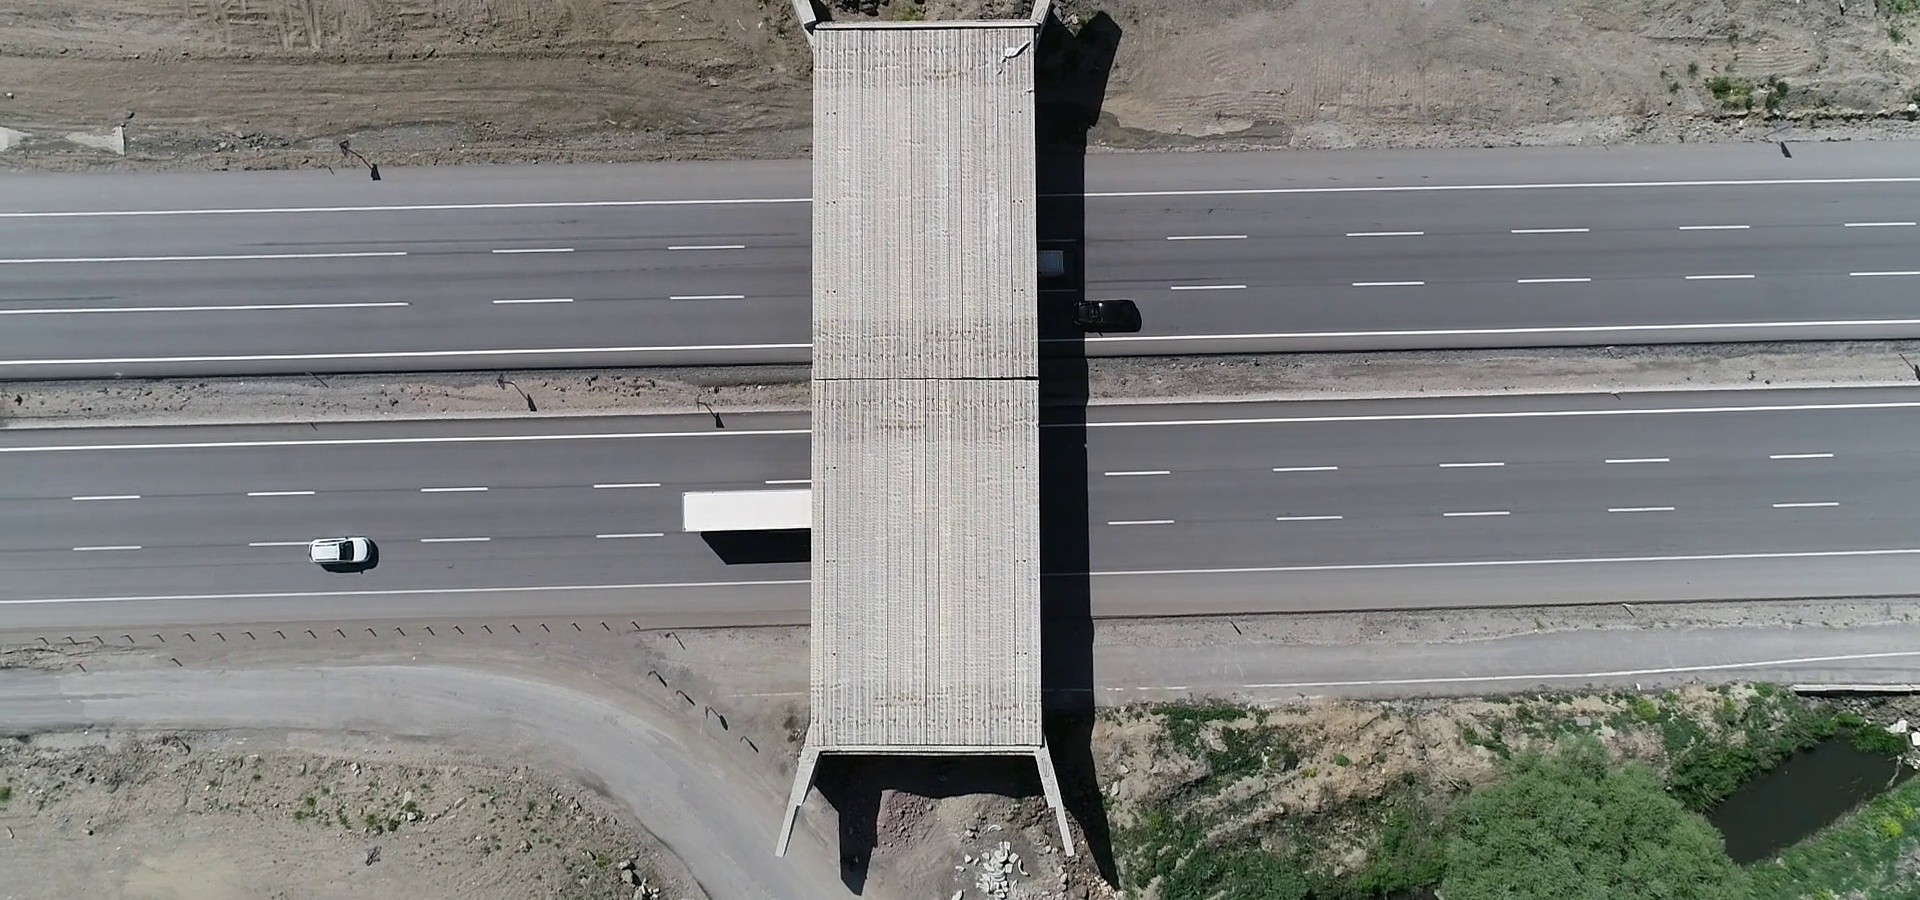arac: (669, 485, 819, 533), (1062, 295, 1151, 336), (302, 533, 384, 571)
